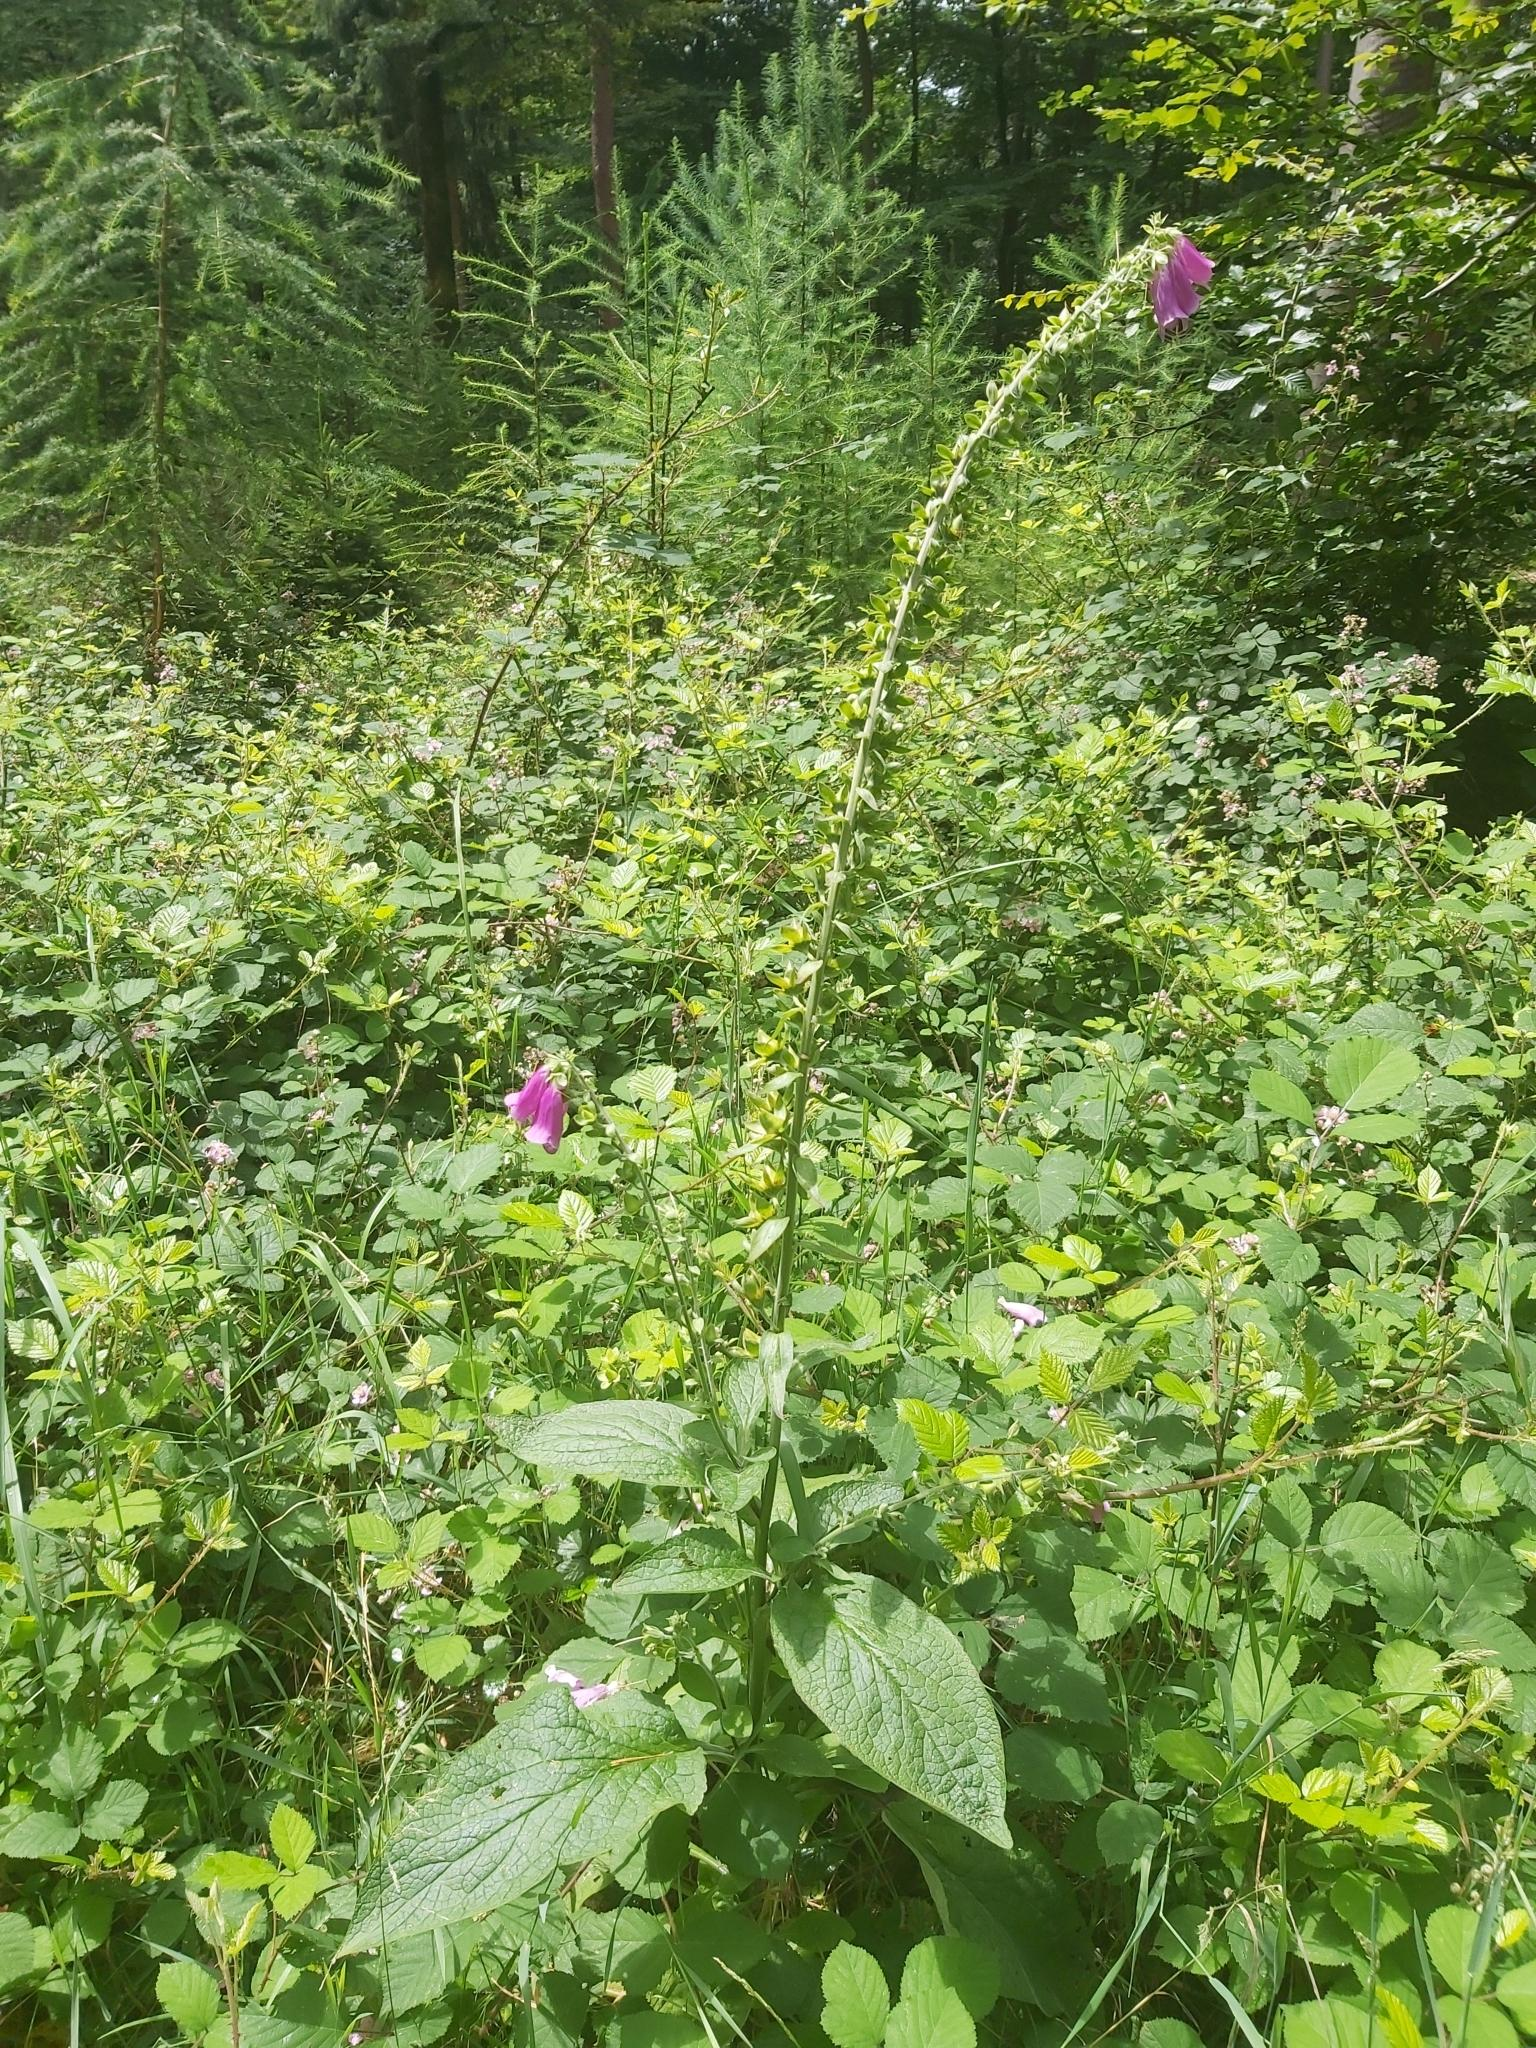Digitalis L: (403, 185, 1260, 1950)
